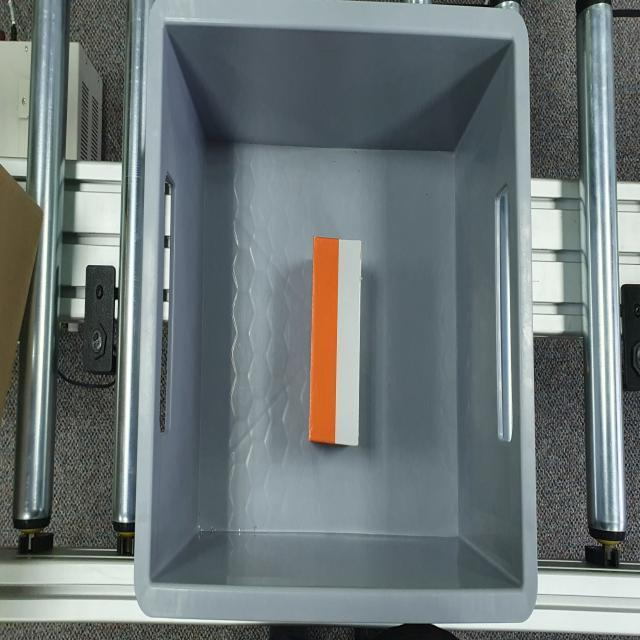box: (309, 235, 362, 450)
